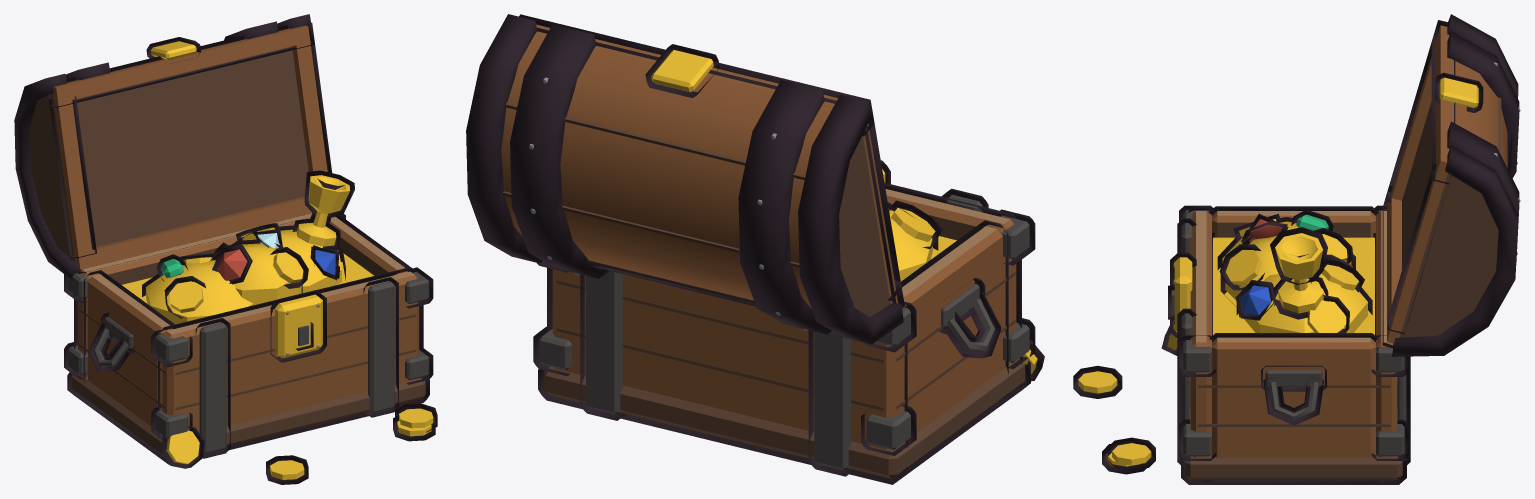
File: SM_Island_Chest_Open.fbx
3 views of the same model, side by side, from view 1: azimuth 30°, elevation 25°; view 2: azimuth 150°, elevation 25°; view 3: azimuth 270°, elevation 25° (orthographic). The views are drawn at different scales.
Visible parts, largest first — view 1: SM_Island_Chest_Open, SM_Island_Chest_Open_Outline; view 2: SM_Island_Chest_Open, SM_Island_Chest_Open_Outline; view 3: SM_Island_Chest_Open, SM_Island_Chest_Open_Outline.
Boxes of the visible parts, x1,y1,x2,y2 form: SM_Island_Chest_Open: [29, 25, 433, 479]; SM_Island_Chest_Open_Outline: [14, 14, 437, 484]; SM_Island_Chest_Open: [501, 24, 1037, 478]; SM_Island_Chest_Open_Outline: [466, 14, 1044, 484]; SM_Island_Chest_Open: [1078, 25, 1520, 480]; SM_Island_Chest_Open_Outline: [1073, 14, 1519, 484].
Bounding box in the file's own units: 1.1 × 1.04 × 1.25.
2 materials, 1 textured.
